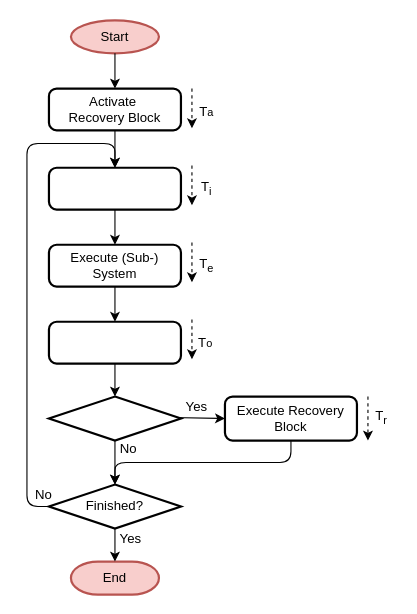
The diagram is 417 pixels wide and 614 high, and some of its shapes have lost their labels. Each missing label, with the centre of its shape:
Failed Validation?: pixel 114 418
Replicate Input: pixel 114 188
Validate Output: pixel 114 342
